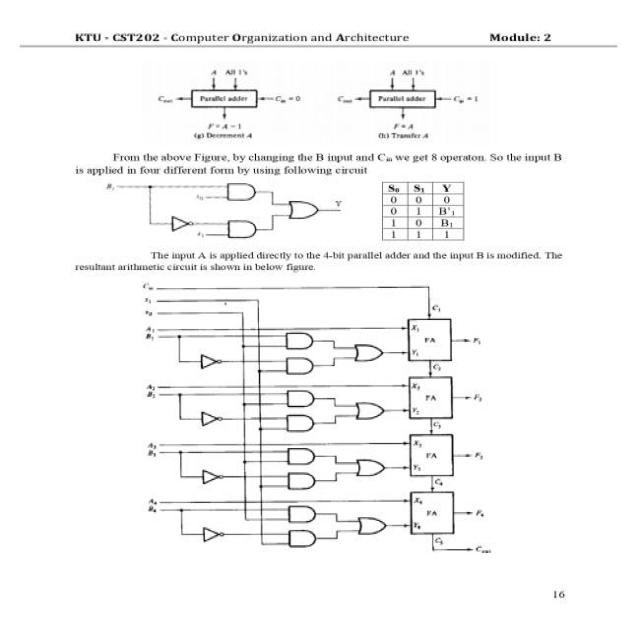Figure Detection - v3 Dataset Version2: (130, 280, 510, 561), (98, 178, 350, 248), (144, 58, 312, 143), (328, 61, 491, 146)
